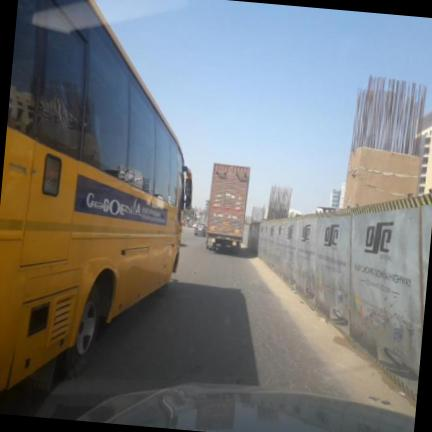Road: (0, 229, 399, 419)
